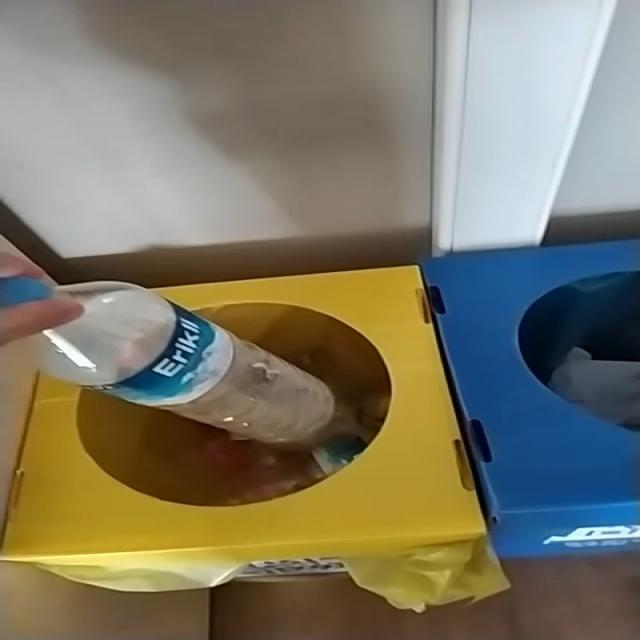plastic: (3, 276, 336, 448)
